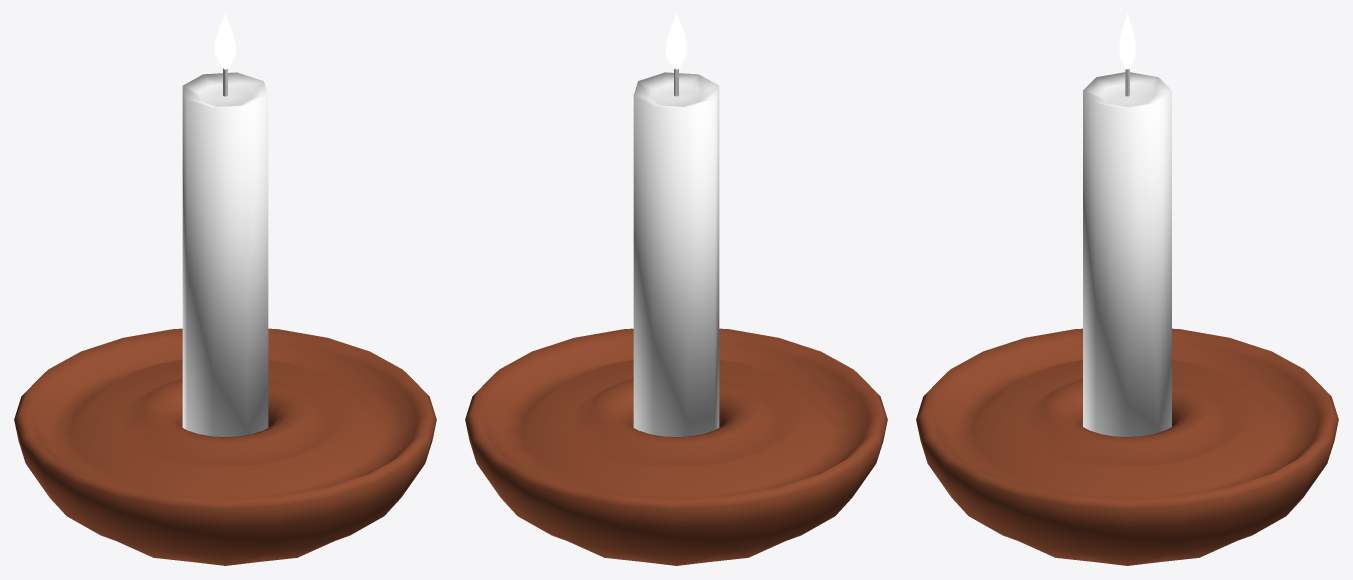
The model's file is kynttila4.gltf.
3 renders of one model, left to right at view 1: azimuth 30°, elevation 25°; view 2: azimuth 150°, elevation 25°; view 3: azimuth 270°, elevation 25°, orthographic.
Parts seen in each view (by area): view 1: alustaCylinder, kynttilaCylinder, liekkiCube; view 2: alustaCylinder, kynttilaCylinder, liekkiCube; view 3: alustaCylinder, kynttilaCylinder, liekkiCube.
Boxes of the visible parts, x1=… form: alustaCylinder: x1=14, y1=328, x2=436, y2=565; kynttilaCylinder: x1=182, y1=72, x2=268, y2=436; liekkiCube: x1=214, y1=14, x2=236, y2=69; alustaCylinder: x1=465, y1=328, x2=887, y2=565; kynttilaCylinder: x1=633, y1=72, x2=719, y2=436; liekkiCube: x1=665, y1=14, x2=687, y2=69; alustaCylinder: x1=916, y1=328, x2=1338, y2=565; kynttilaCylinder: x1=1083, y1=72, x2=1171, y2=436; liekkiCube: x1=1119, y1=14, x2=1135, y2=69.
Size of the model in its own units: 1.33 by 1.79 by 1.33.
